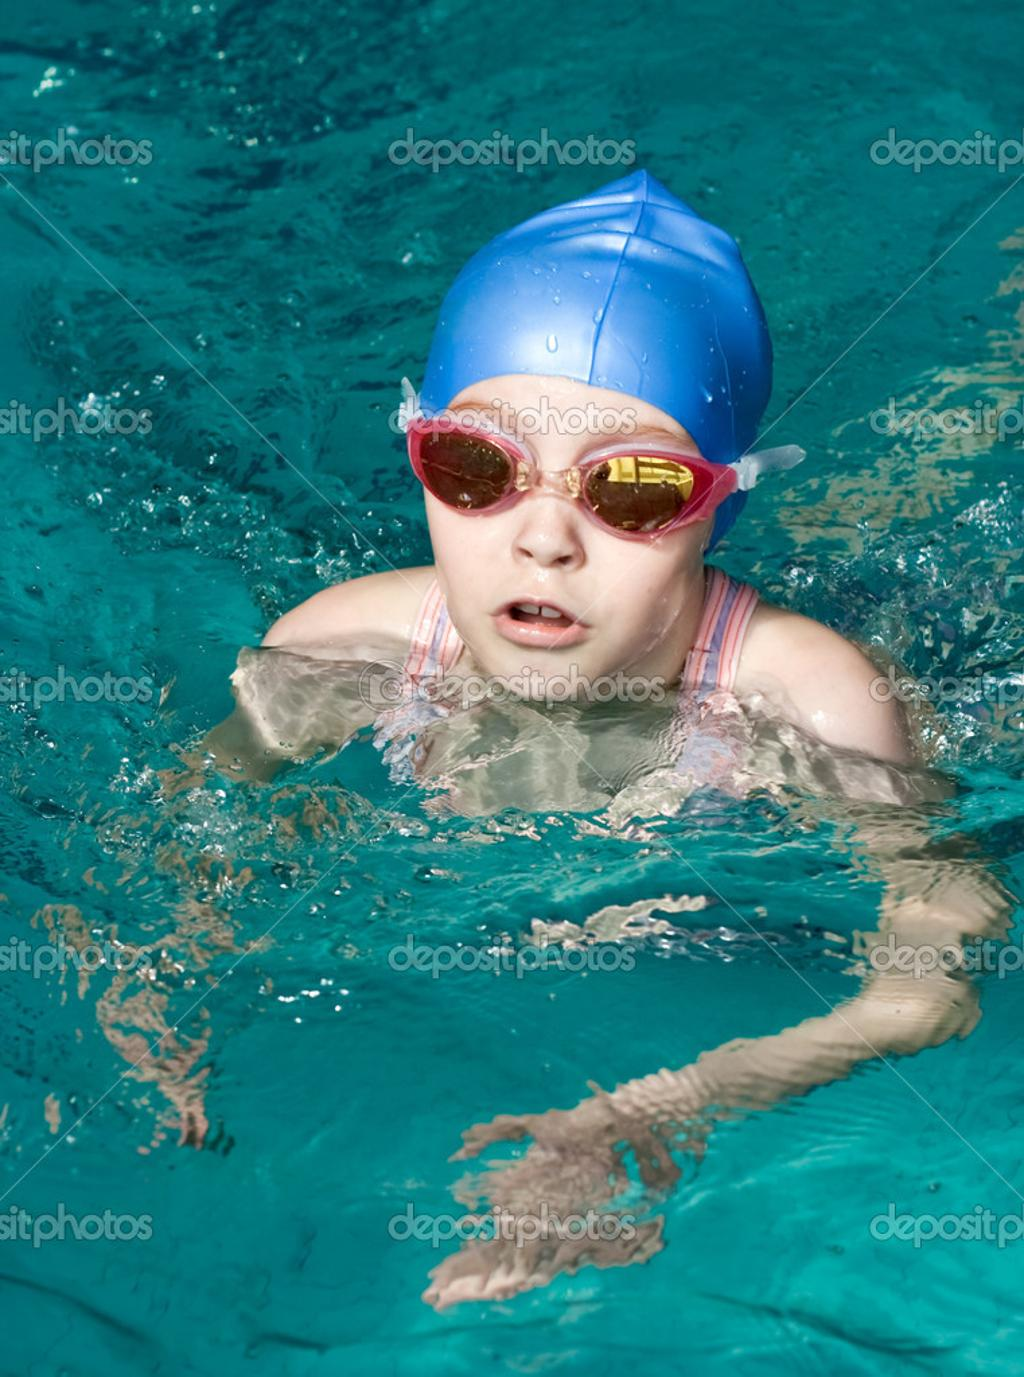face: (446, 384, 696, 707)
